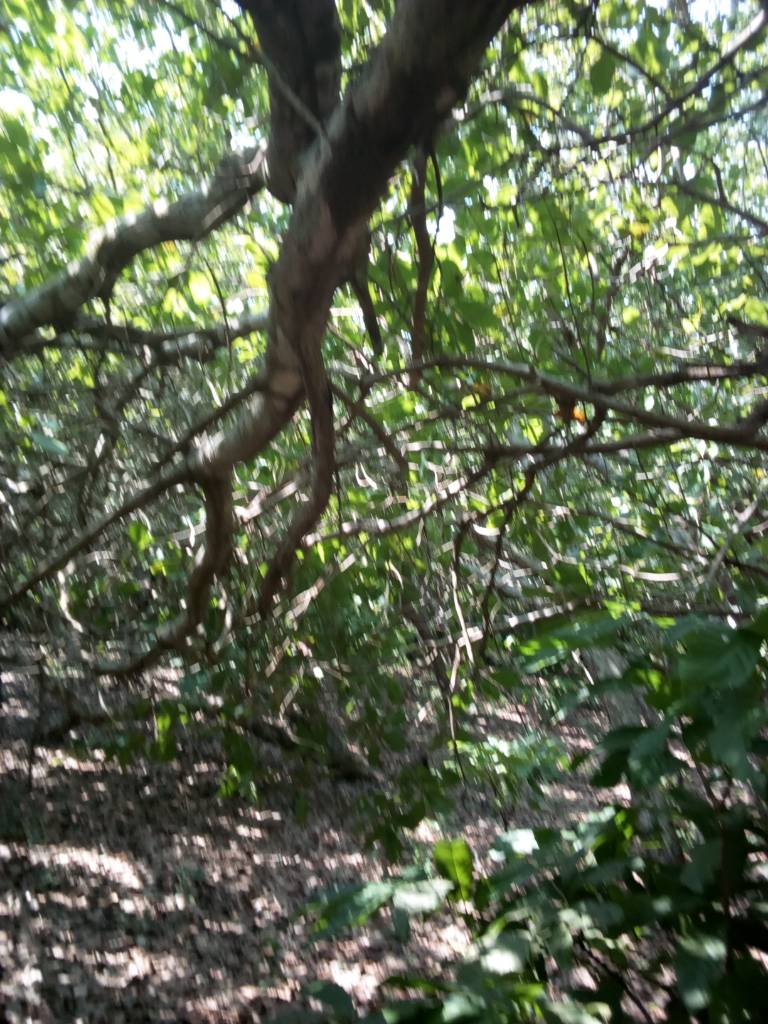Termites: (325, 105, 410, 235)
